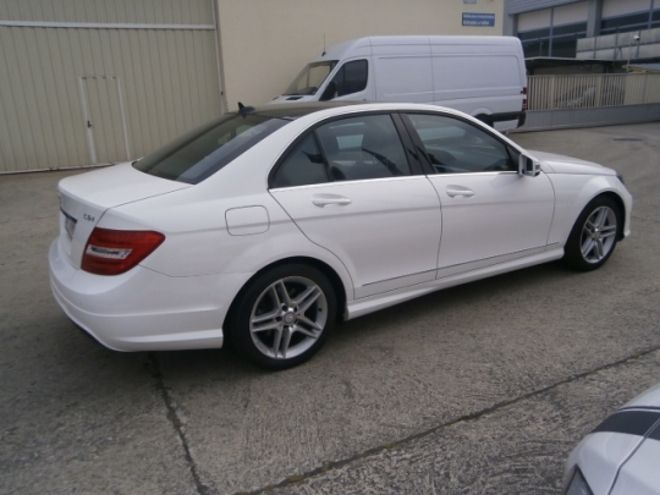car: (36, 105, 638, 387), (276, 29, 530, 138)
